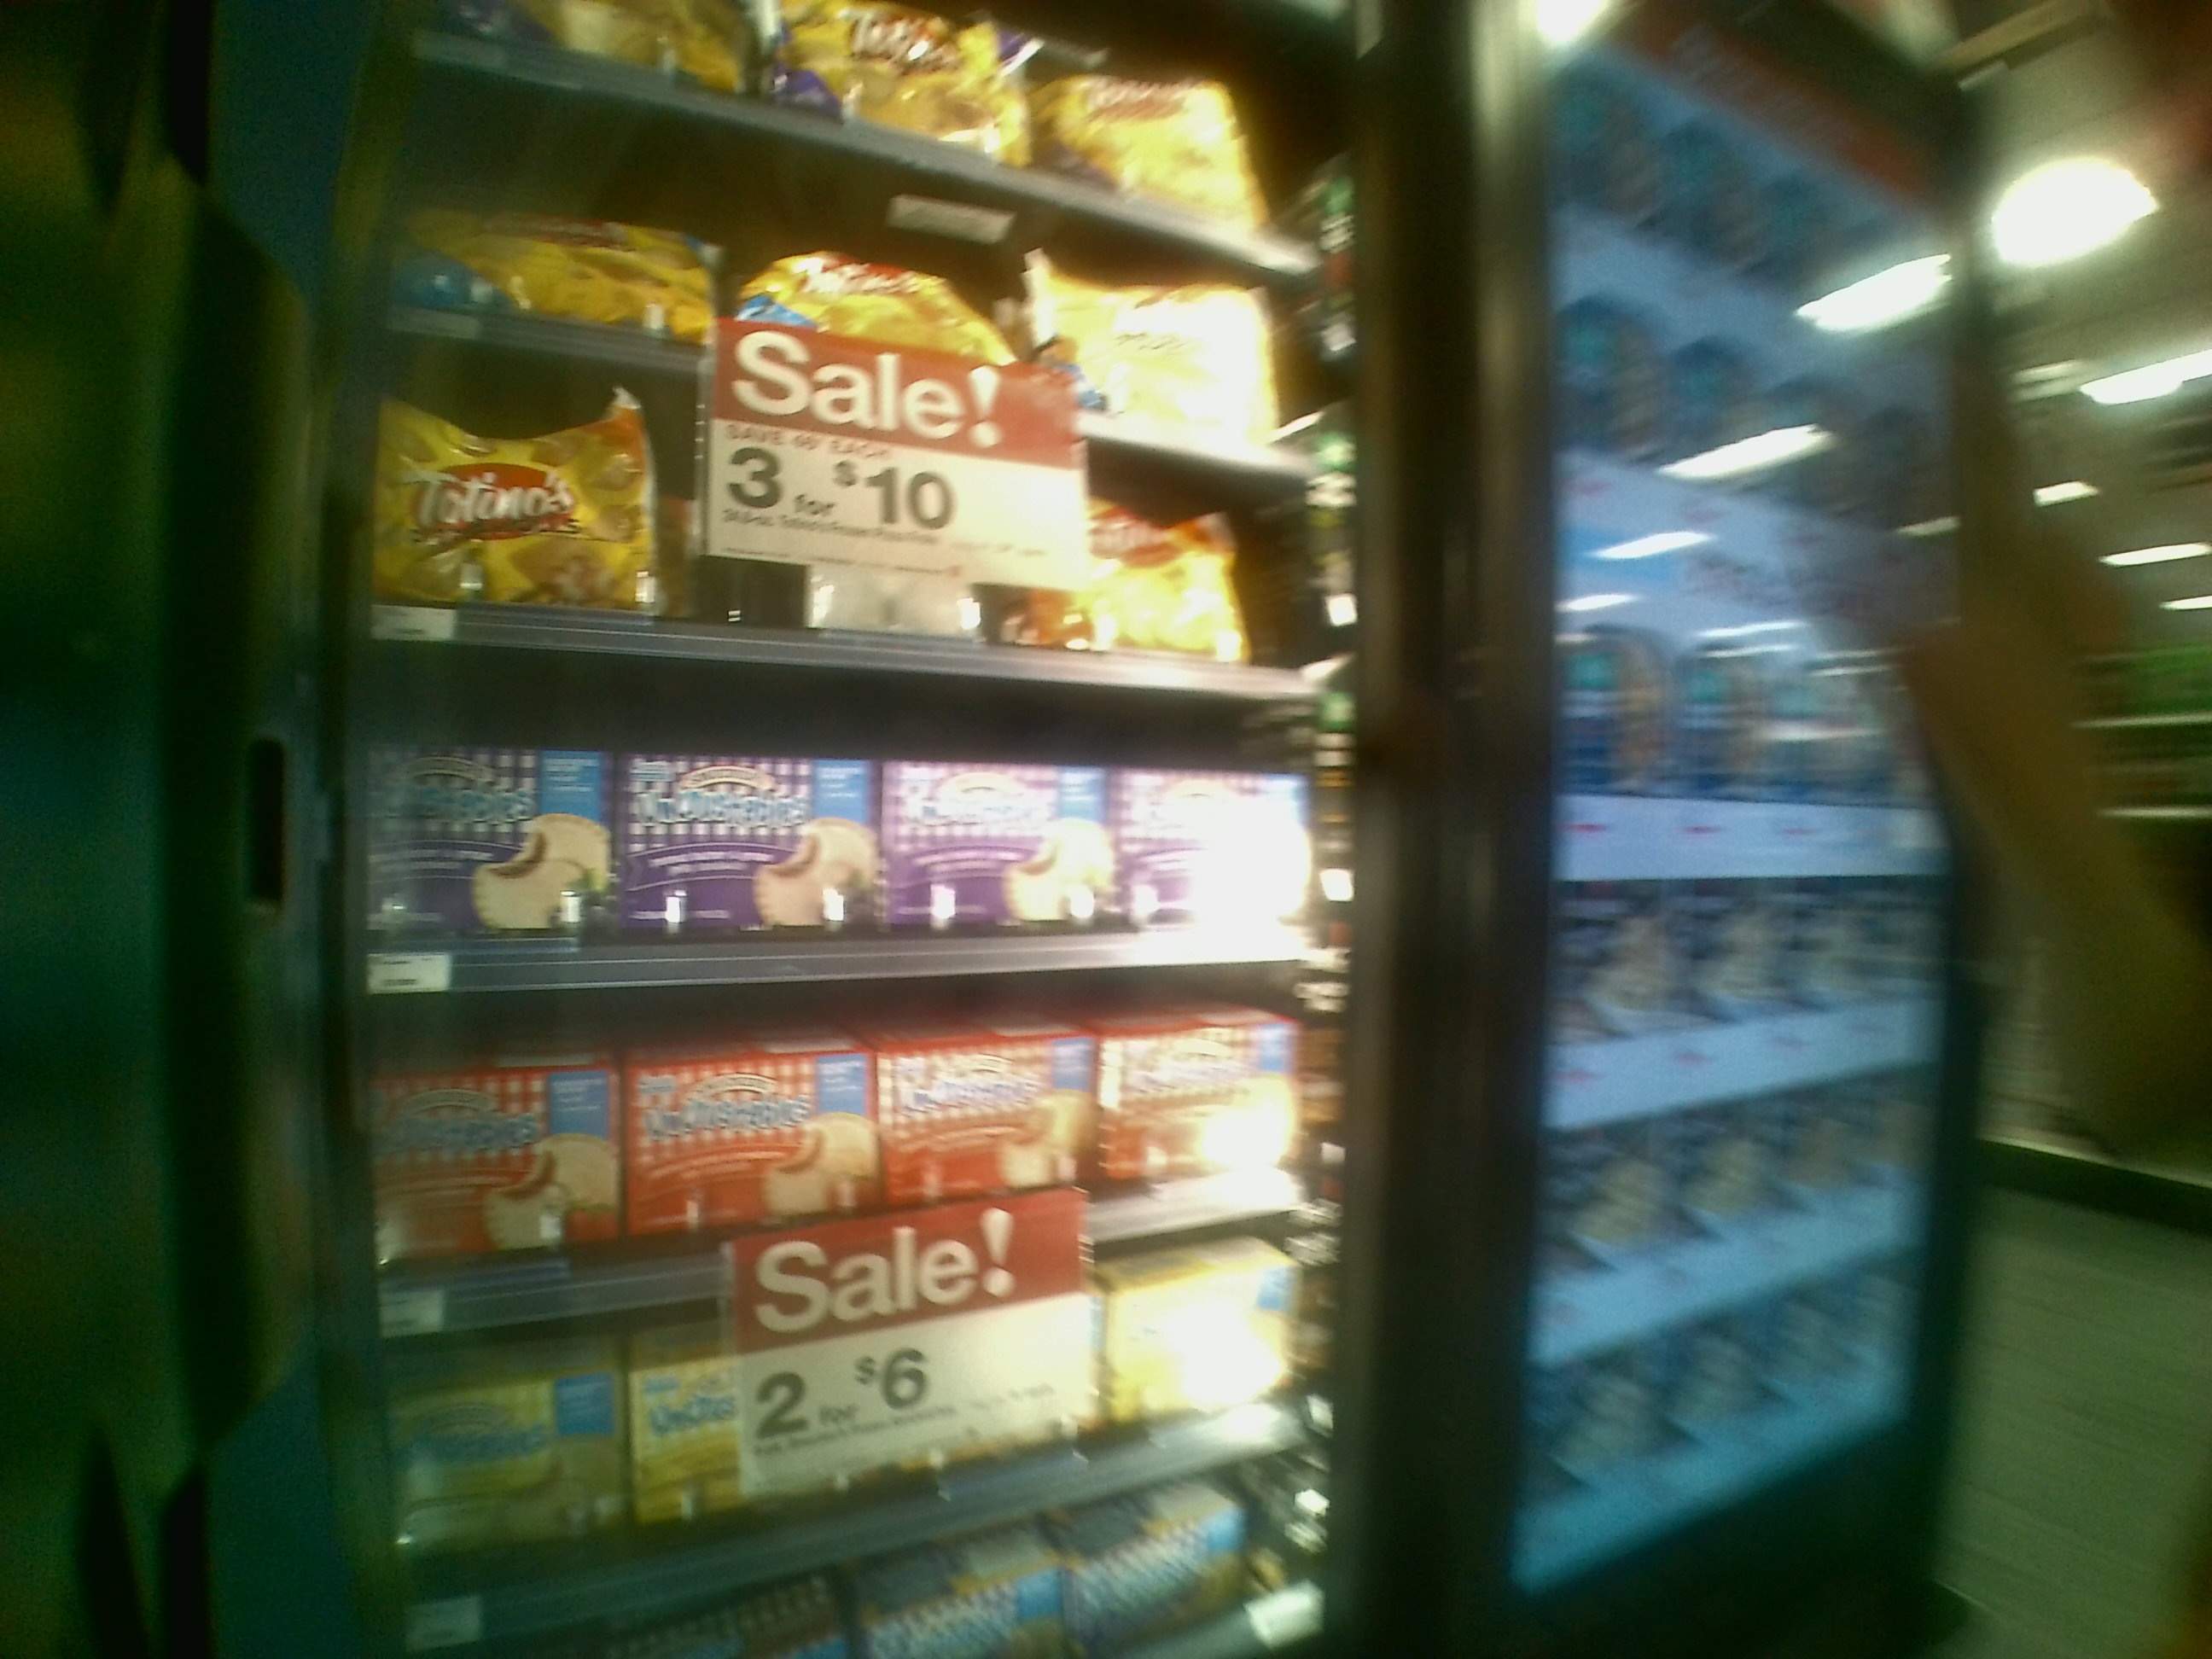shelf: (345, 305, 1310, 680), (334, 610, 1289, 957), (371, 1260, 1343, 1544), (341, 986, 1310, 1220)
